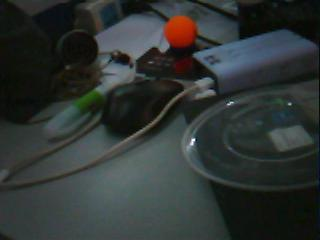oball: (163, 16, 197, 46)
